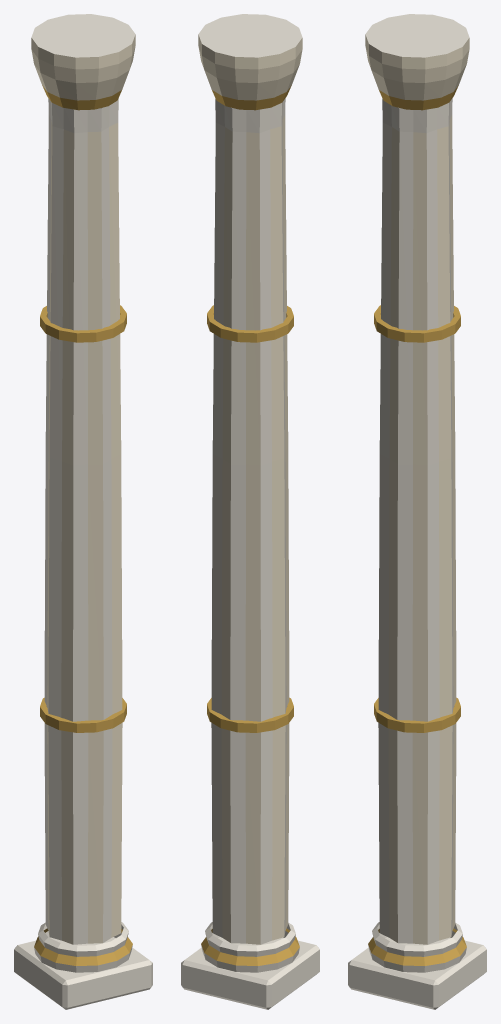
Rendered from Column.obj.
3 renders of one model, left to right at view 1: azimuth 30°, elevation 25°; view 2: azimuth 150°, elevation 25°; view 3: azimuth 330°, elevation 25°, orthographic.
Bounding box in the file's own units: 1.6 × 16 × 1.6.
